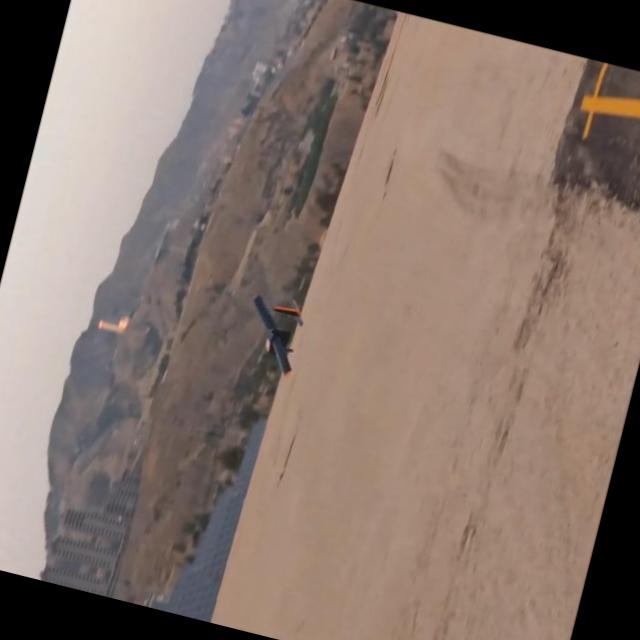UAV: (221, 248, 349, 384)
